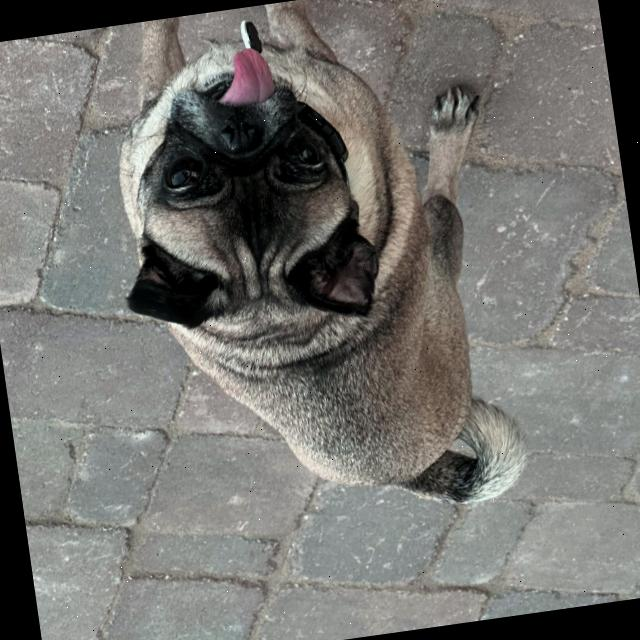pug_dog: (86, 5, 422, 405)
